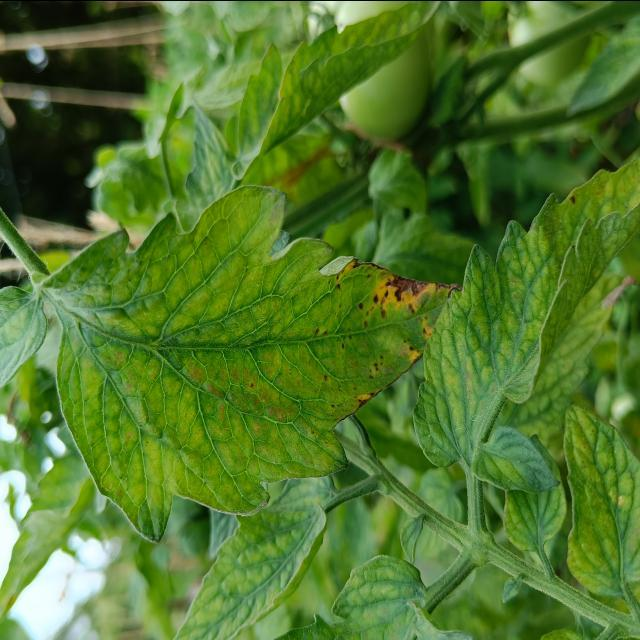Tomato mosaic virus leaf: (272, 230, 478, 478)
